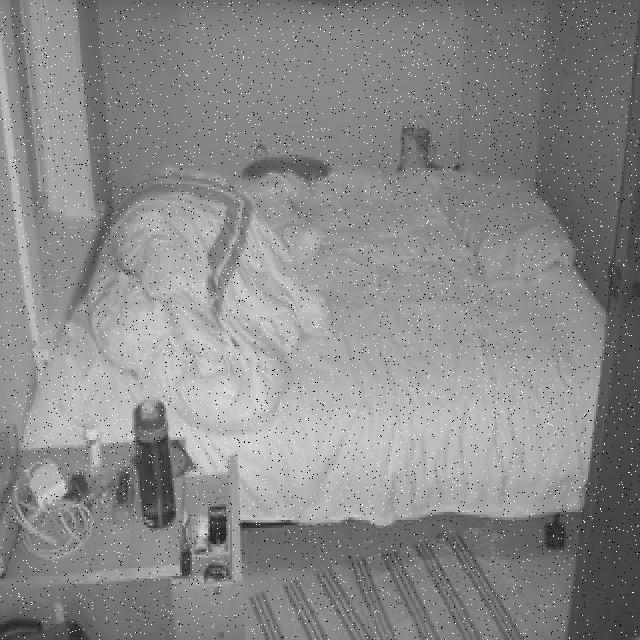bed: (90, 167, 585, 460)
